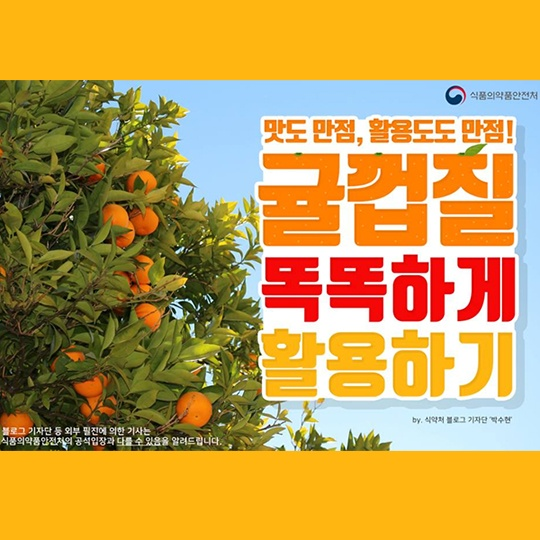mandarin: (179, 392, 214, 430), (77, 396, 118, 425), (1, 407, 36, 438), (72, 373, 110, 398), (133, 302, 163, 333), (51, 345, 84, 373), (76, 152, 103, 184), (131, 208, 159, 238), (129, 169, 159, 196), (103, 205, 128, 234), (112, 221, 138, 246), (132, 256, 155, 282)
